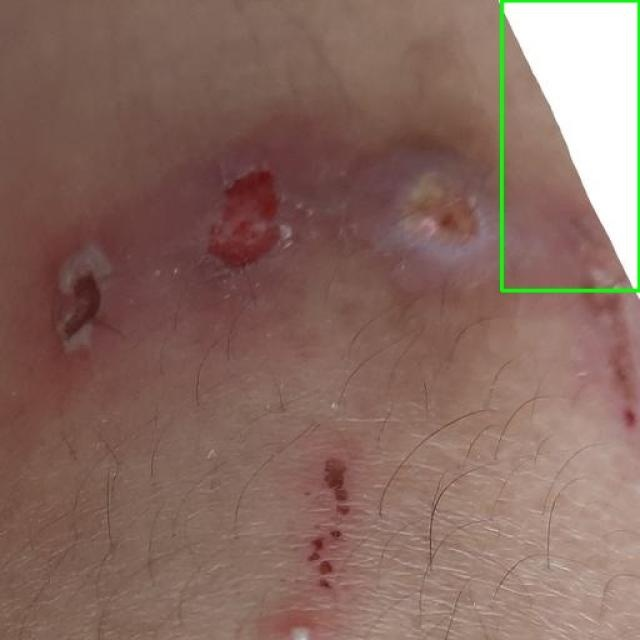Contact Dermatitis: (501, 0, 639, 290)
